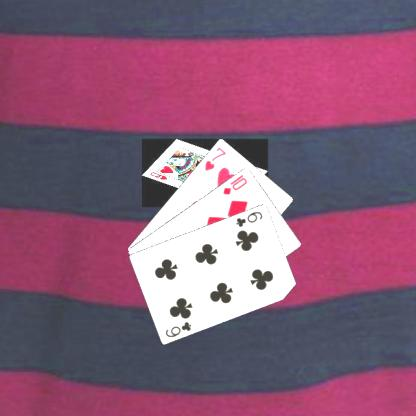10D: (220, 172, 248, 196)
6C: (233, 208, 264, 228), (163, 318, 193, 338)
7H: (202, 144, 228, 172)
